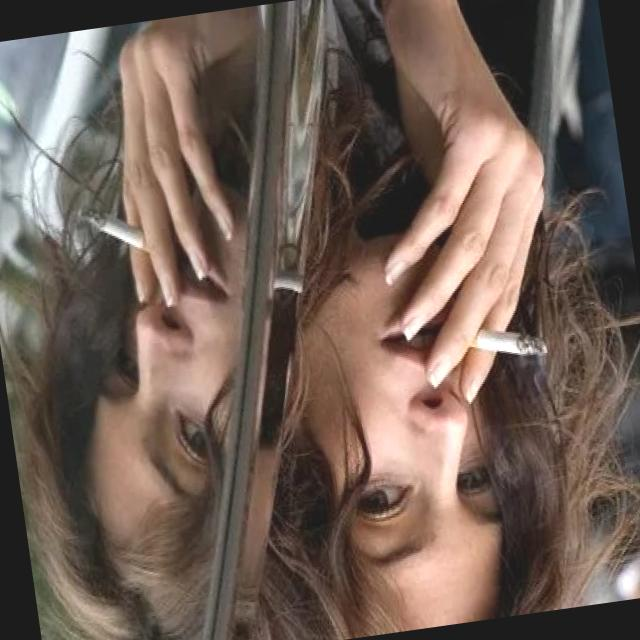smoke: (451, 306, 557, 379), (85, 192, 164, 269)
